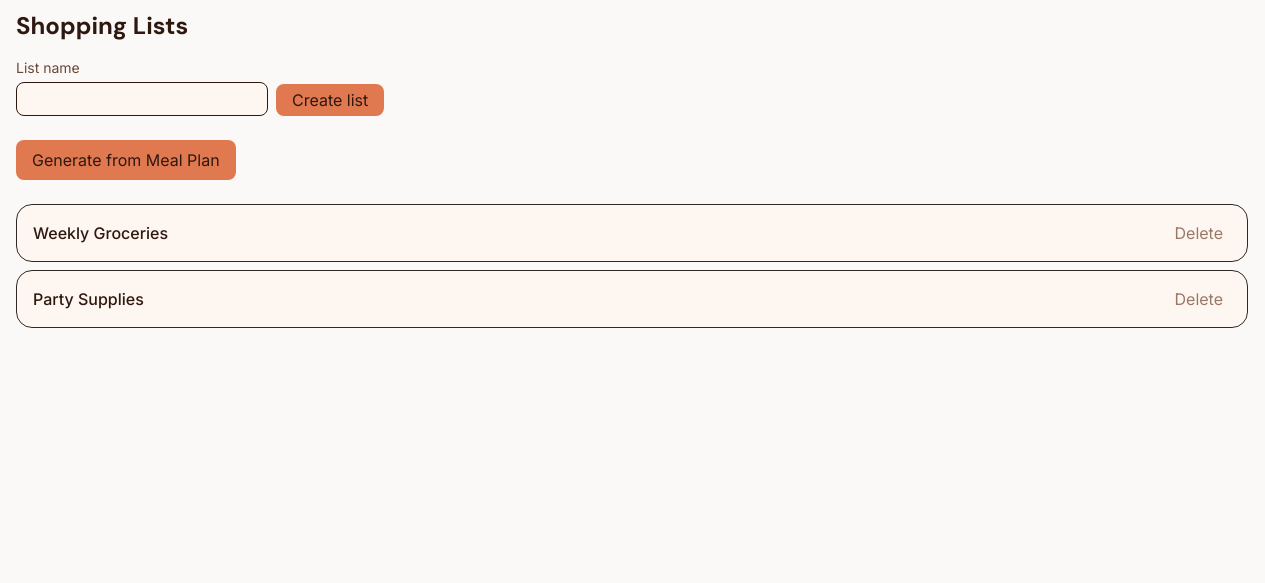
Test: ShoppingListPage › Check Off Items While Shopping › should show progress summary with correct count
What coordinates should you click on to do the following:
click the button "Weekly Groceries"
I would click on:
 (101, 233)
Its box is [33,221,168,245].
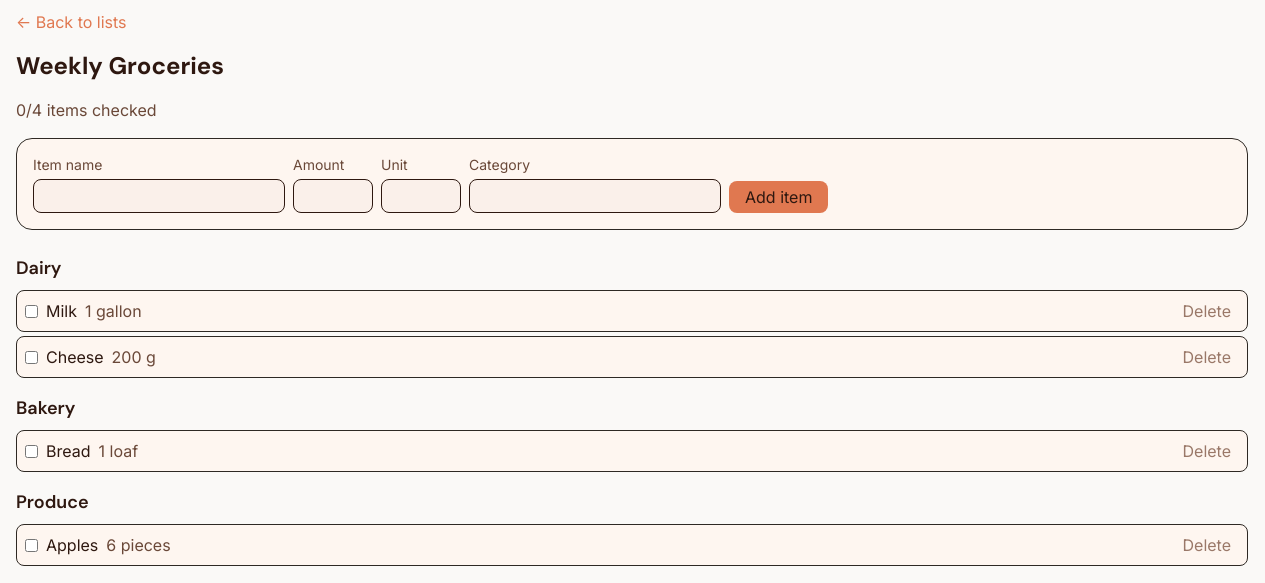
Result: the text "Milk" is shown at [46,301,77,321]
Result: the text "0/4 items checked" is shown at [16,100,157,120]
What coordinates should you click on to do the following:
click the checkbox named "Check Milk"
I would click on:
 (32, 311)
Its box is [25,304,38,318].
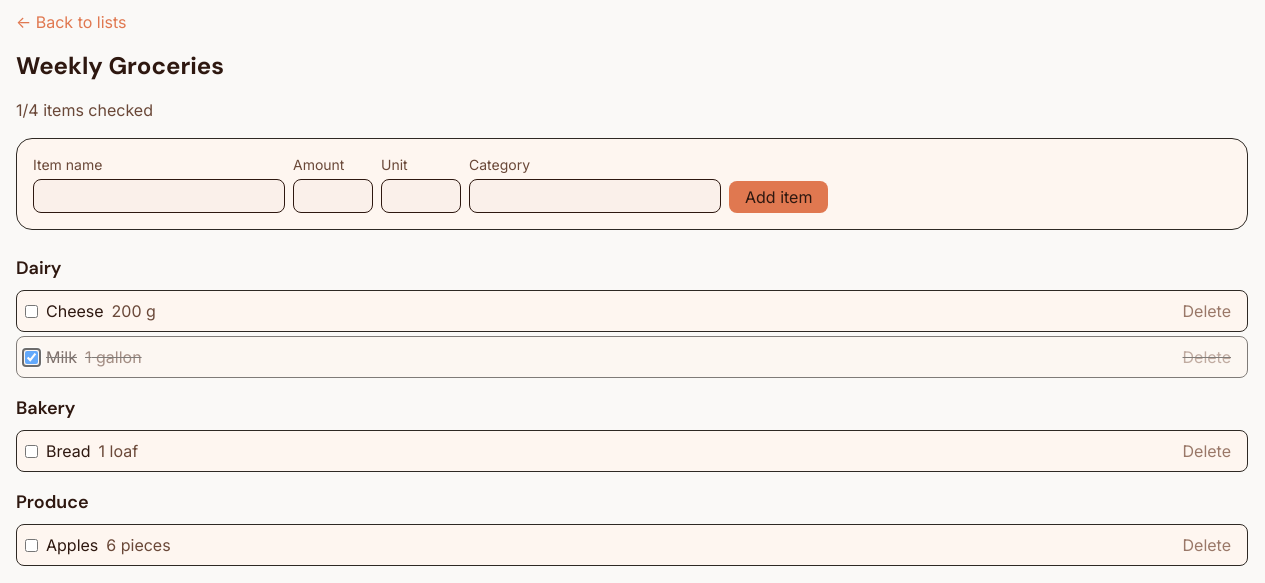
Result: the text "1/4 items checked" is shown at [16,100,153,120]
What coordinates should you click on to do the following:
click the checkbox named "Check Bread"
I would click on:
 (32, 451)
Its box is [25,444,38,458].
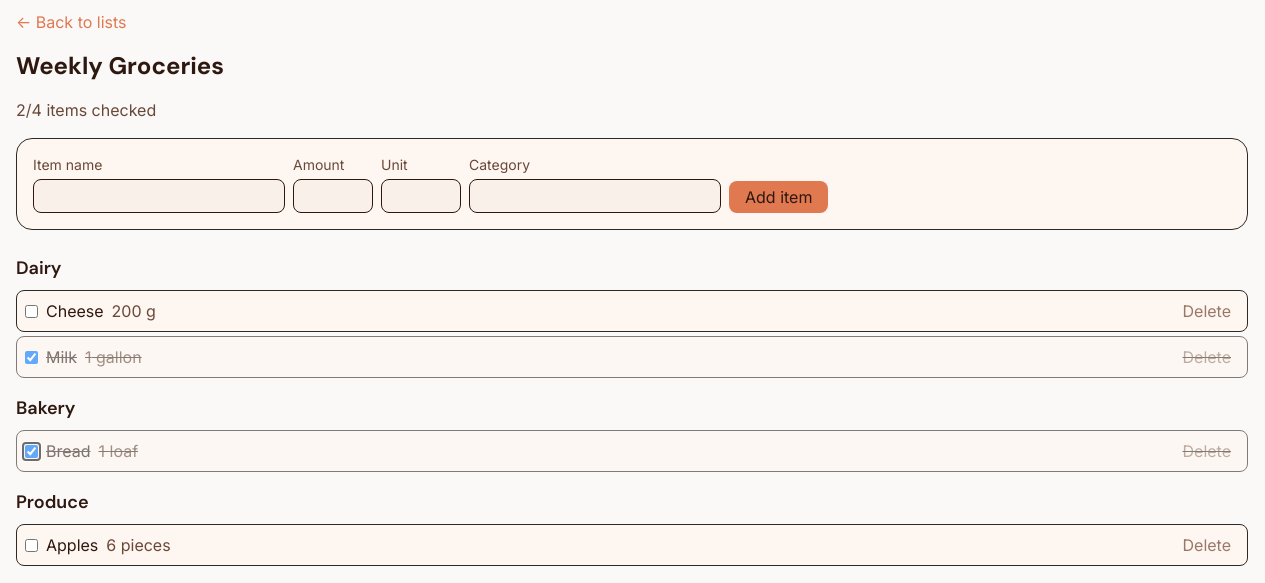
Result: the text "2/4 items checked" is shown at [16,100,156,120]
